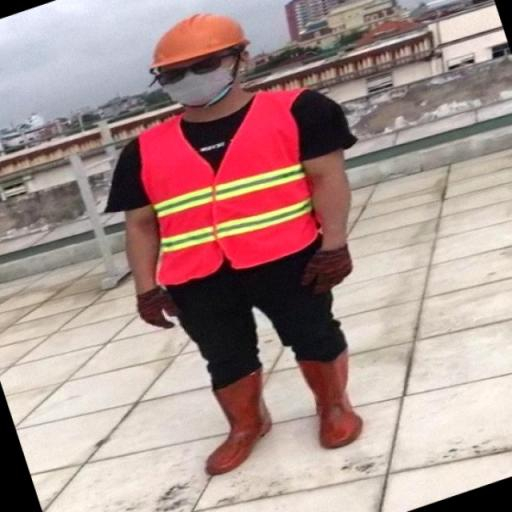Person: (98, 2, 386, 500)
boots: (202, 362, 276, 476), (288, 350, 370, 452)
gloves: (296, 245, 358, 302), (132, 284, 182, 332)
goggles: (146, 47, 247, 86)
helmet: (150, 10, 256, 75)
vest: (122, 88, 324, 292)
